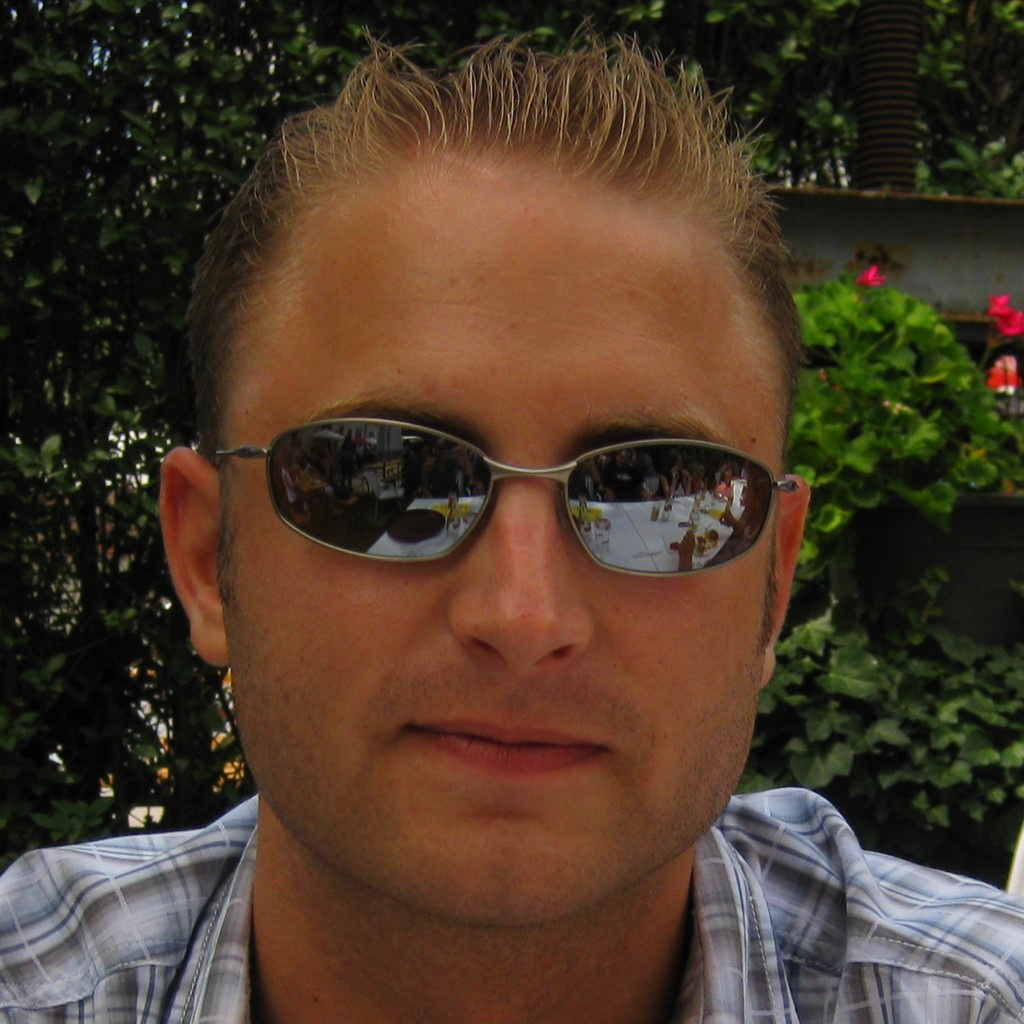sin_mascara: (230, 162, 781, 931)
